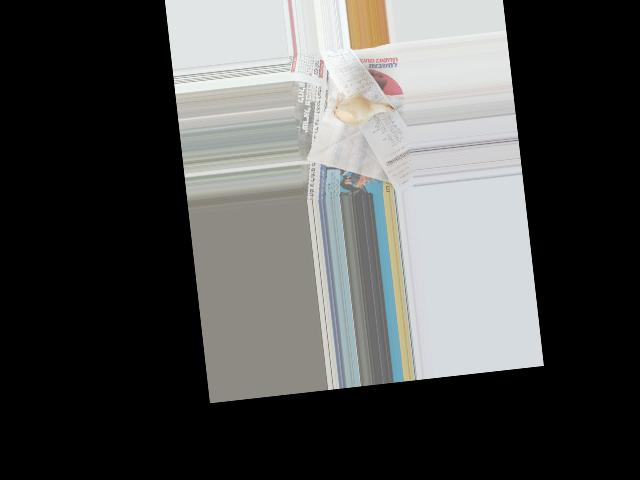onion: (334, 93, 380, 126)
